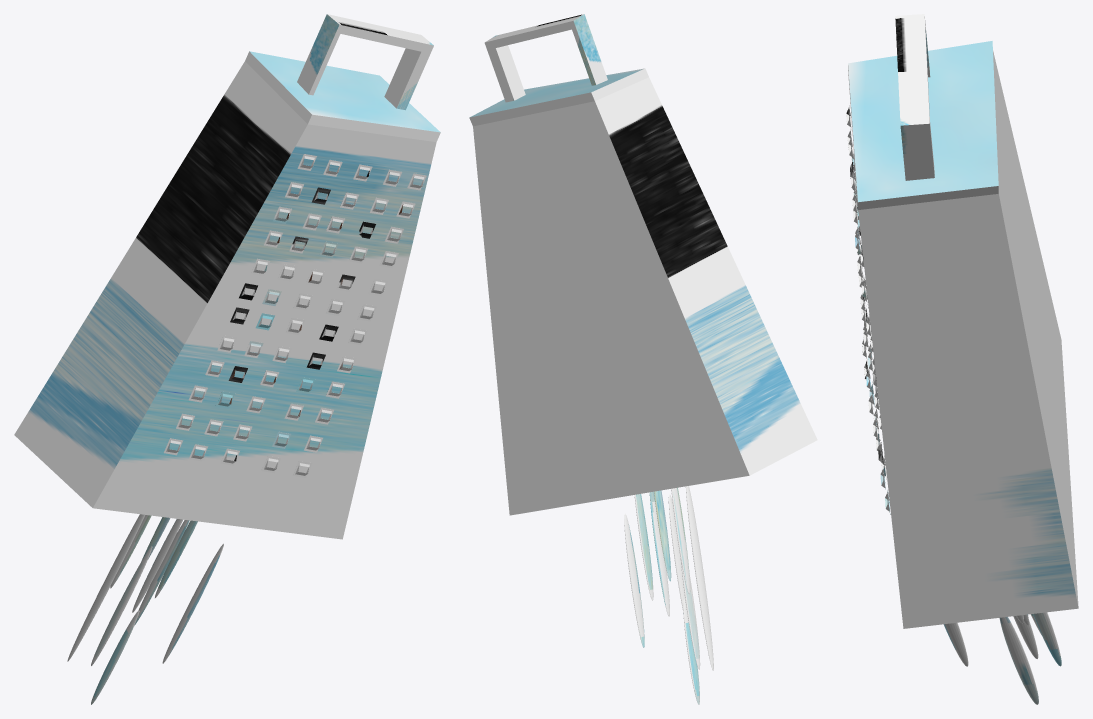
File: paso 3 vfff - copia.fbx
3 views of the same model, side by side, from view 1: azimuth 30°, elevation 25°; view 2: azimuth 150°, elevation 25°; view 3: azimuth 270°, elevation 25° (orthographic). The views are drawn at different scales.
Parts seen in each view (by area): view 1: Arroz_coco_3_vf_; view 2: Arroz_coco_3_vf_; view 3: Arroz_coco_3_vf_.
Part boxes in pixels (box(x1,y1,x2,y2)): Arroz_coco_3_vf_: box(14, 14, 440, 704); Arroz_coco_3_vf_: box(469, 14, 817, 704); Arroz_coco_3_vf_: box(846, 14, 1078, 704).
Size of the model in its own units: 254 by 470 by 124.
